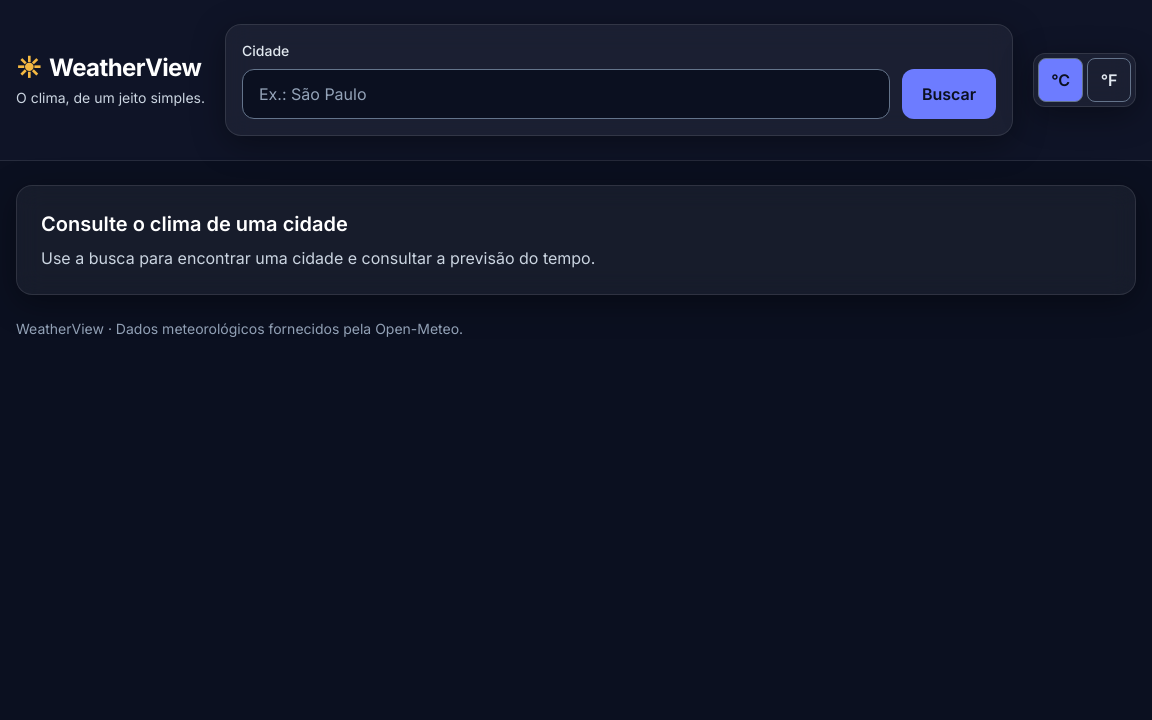
Test: App › mantém a unidade como estado da interface sem repetir consultas ao alterná-la
Step 1. Type "São Paulo" into the search field labelled "Cidade" → (566, 94), box x1=242 y1=69 x2=890 y2=119
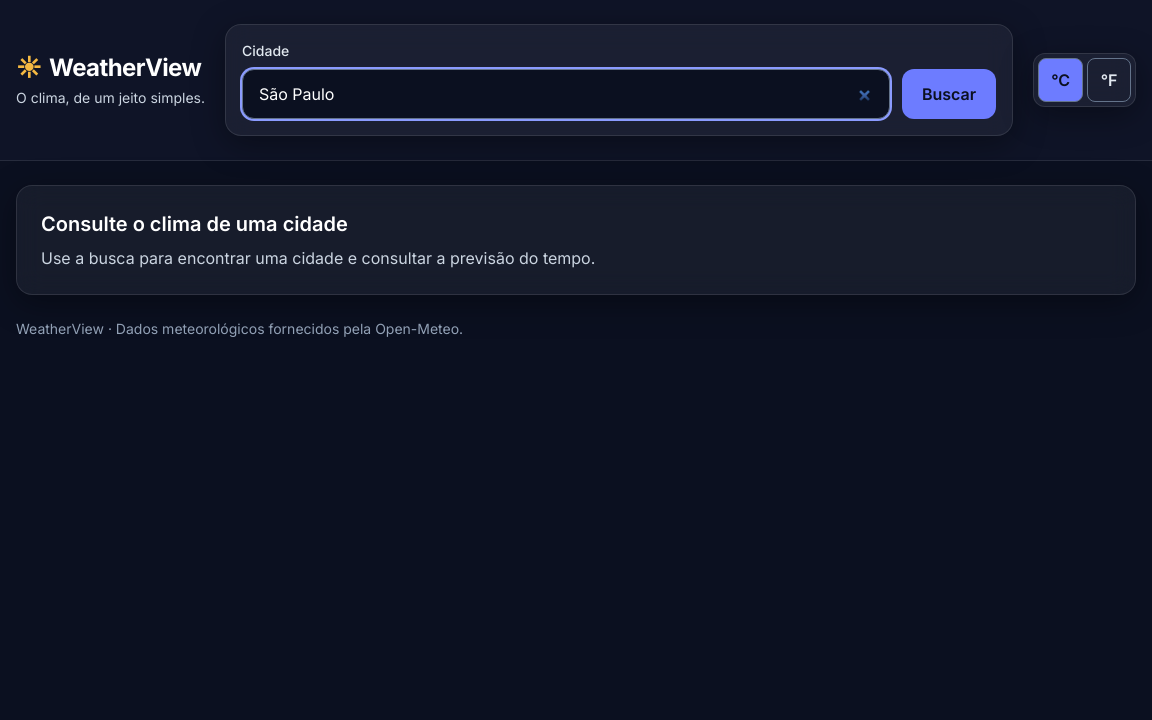
Step 2. Press Enter
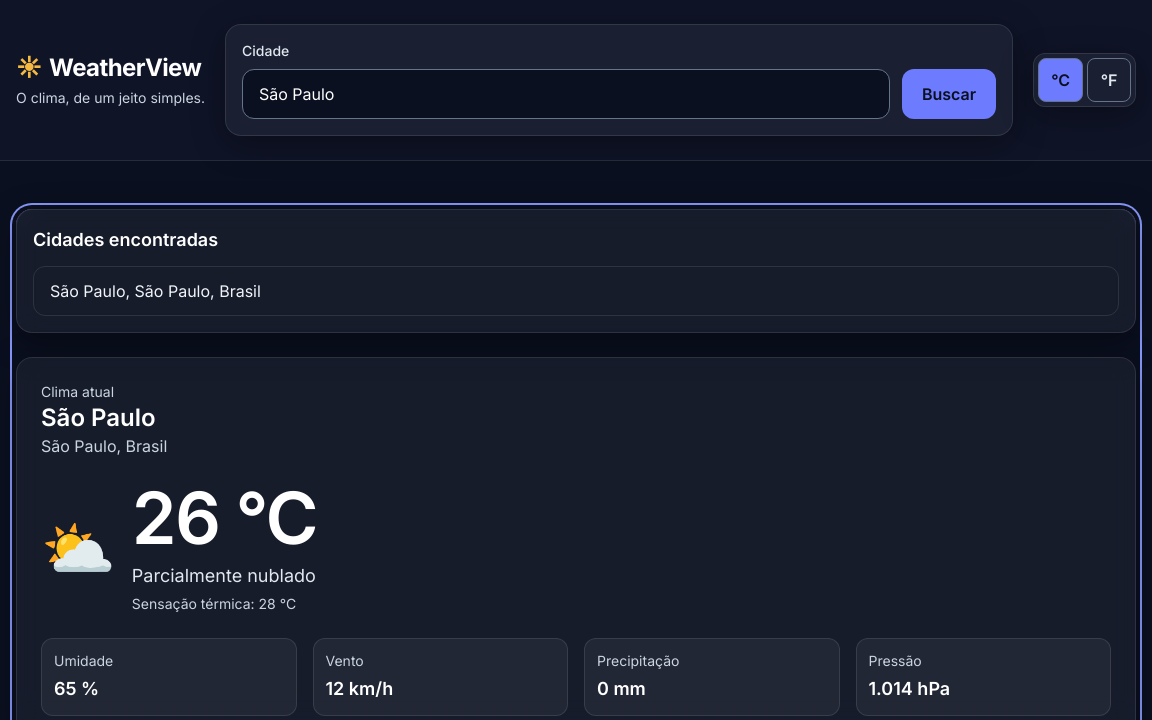
Expected: the text named "Temperatura atual" reads "26 °C", x1=132 y1=474 x2=317 y2=561
Step 3. Click the button named "°F — Fahrenheit" → (1109, 80), box x1=1087 y1=58 x2=1131 y2=102
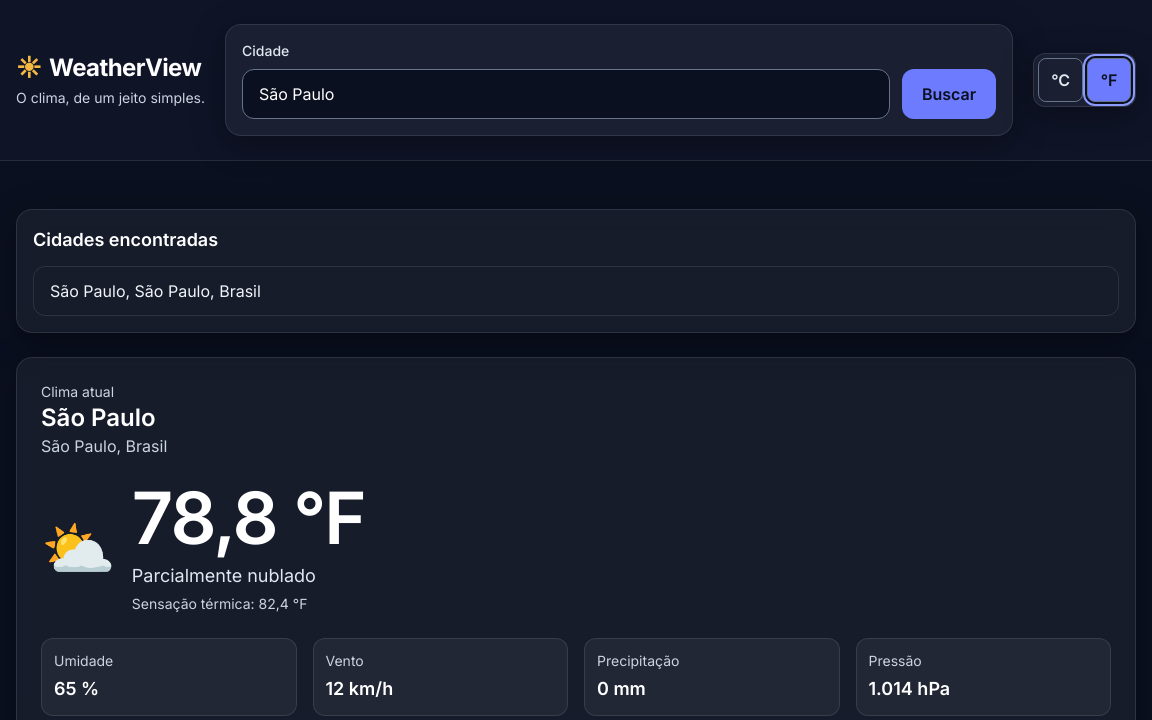
Expected: the text named "Temperatura atual" reads "78,8 °F", x1=132 y1=474 x2=365 y2=561
Expected: the text "Sensação térmica: 82,4 °F" is shown, x1=132 y1=595 x2=308 y2=612
Step 4. Click the button named "°C — Celsius" → (1061, 80), box x1=1038 y1=58 x2=1083 y2=102
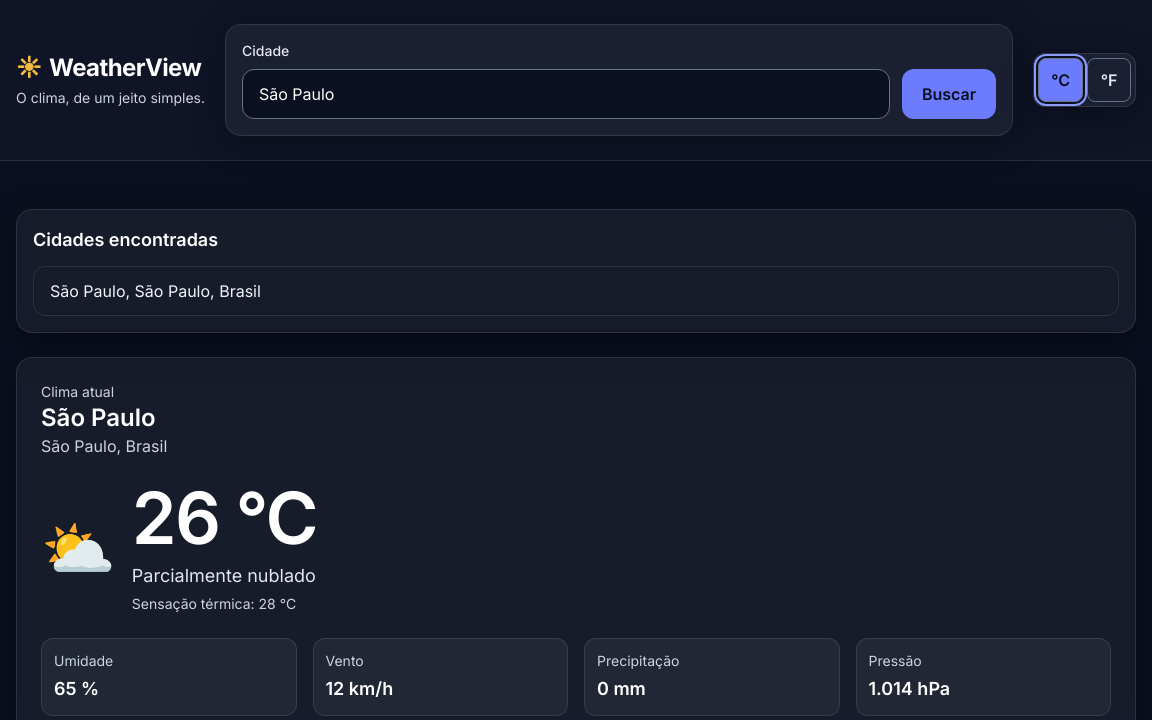
Expected: the text named "Temperatura atual" reads "26 °C", x1=132 y1=474 x2=317 y2=561
